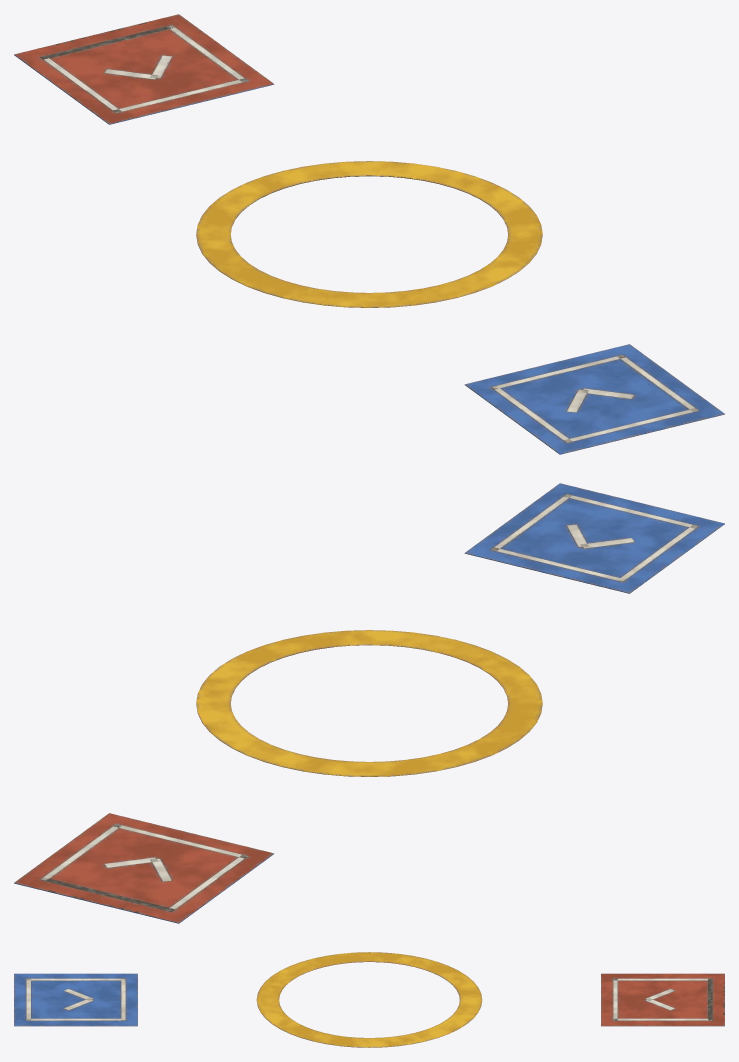
Rendered from arena_marks.glb.
The picture shows the model from 3 angles, top to bottom: view 1: azimuth 30°, elevation 25°; view 2: azimuth 150°, elevation 25°; view 3: azimuth 270°, elevation 25°; orthographic projection. The views are drawn at different scales.
Parts seen in each view (by area): view 1: start_blue, start_red, ring; view 2: start_blue, start_red, ring; view 3: start_blue, start_red, ring.
Boxes of the visible parts, x1,y1,x2,y2 form: start_blue: (464,344,724,454); start_red: (14,14,274,124); ring: (196,161,542,307); start_blue: (464,483,724,593); start_red: (14,813,274,923); ring: (196,630,542,776); start_blue: (14,973,137,1026); start_red: (601,973,724,1026); ring: (256,952,482,1047).
Size of the model in its own units: 4 by 0.012 by 12.6.
Materials: 1 (1 with a texture image).
